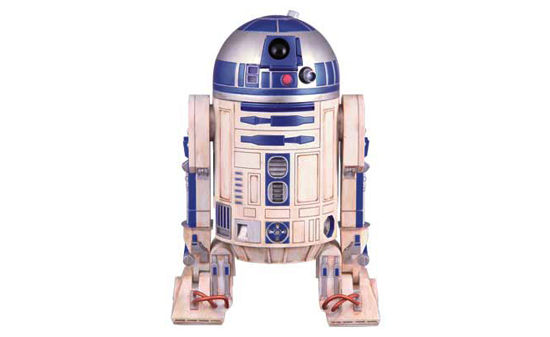r2d2: (171, 10, 381, 327)
